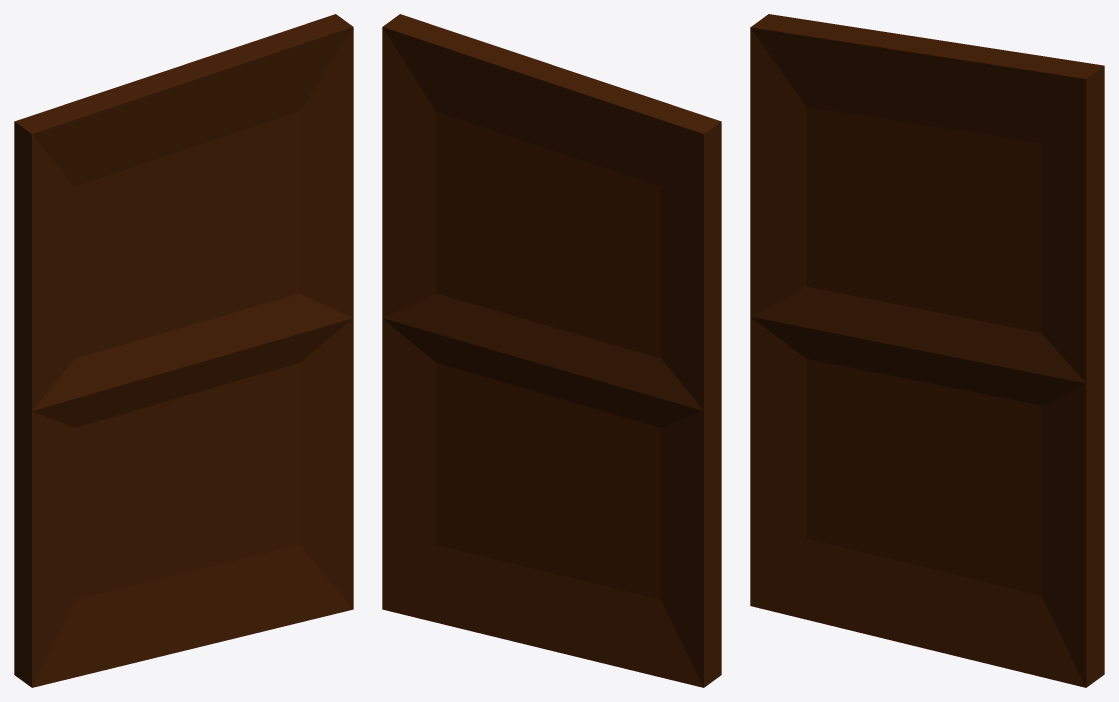
File: door_1.glb
3 renders of one model, left to right at view 1: azimuth 30°, elevation 25°; view 2: azimuth 150°, elevation 25°; view 3: azimuth 330°, elevation 25°, orthographic. The views are drawn at different scales.
Visible parts, largest first — view 1: door; view 2: door; view 3: door.
Boxes of the visible parts, bbox=[...] form: door: bbox=[14, 14, 353, 687]; door: bbox=[382, 14, 721, 687]; door: bbox=[750, 14, 1104, 687].
Bounding box in the file's own units: 1.17 × 2.02 × 0.1106.
